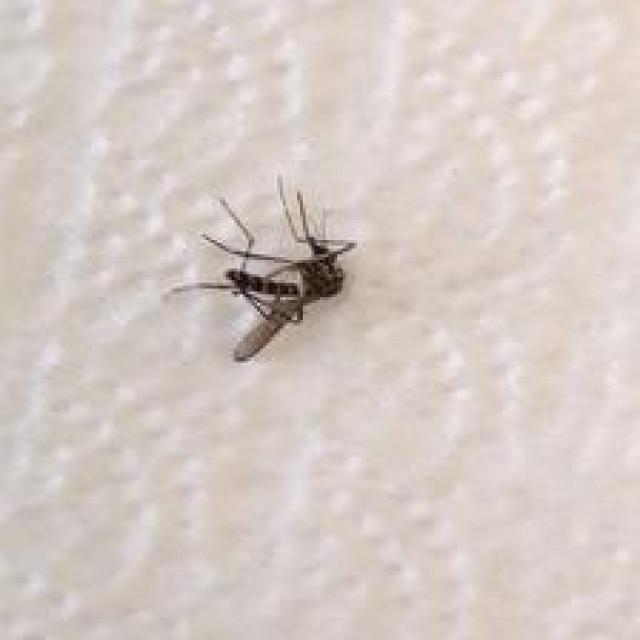Aedes albopictus: (166, 171, 357, 363)
